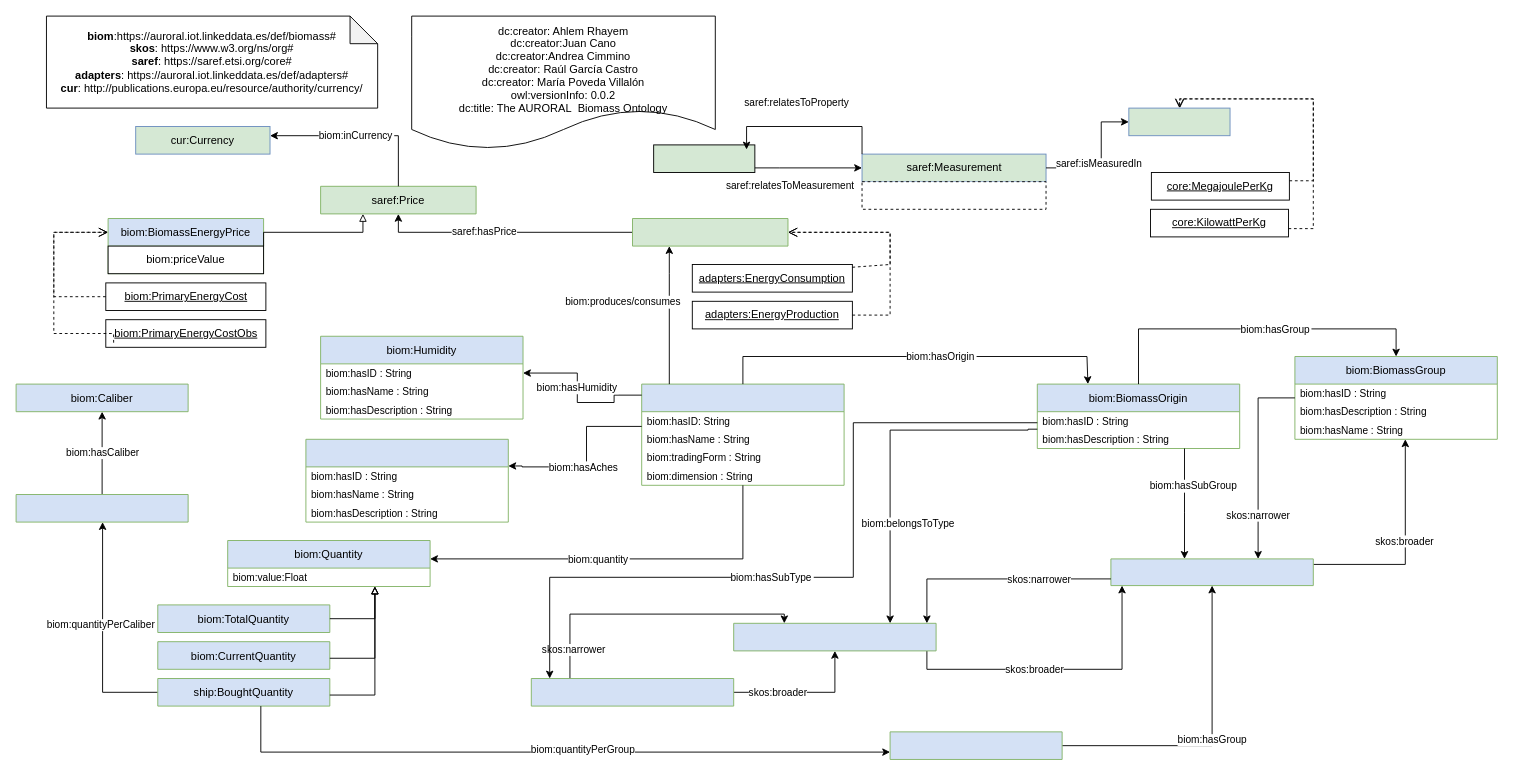
This 1513x776 diagram has some shape labels left out. Each missing label, with the box of its shape:
(F) saref:hasTimeStamp: dateTime saref:hasValue: (861, 181, 1046, 209)
adapters:Energy: (632, 218, 788, 246)
biom:Aches: (305, 438, 508, 522)
biom:Biomass: (641, 383, 844, 485)
biom:BiomassSubGroup: (1110, 558, 1313, 586)
biom:BiomassSubType: (530, 678, 734, 706)
biom:BiomassType: (733, 622, 936, 651)
biom:CaliberAllocation: (15, 494, 188, 522)
biom:GroupAllocation: (889, 731, 1062, 759)
om:UnitOfMeasure: (1128, 107, 1230, 136)
saref:Property: (653, 144, 755, 172)
